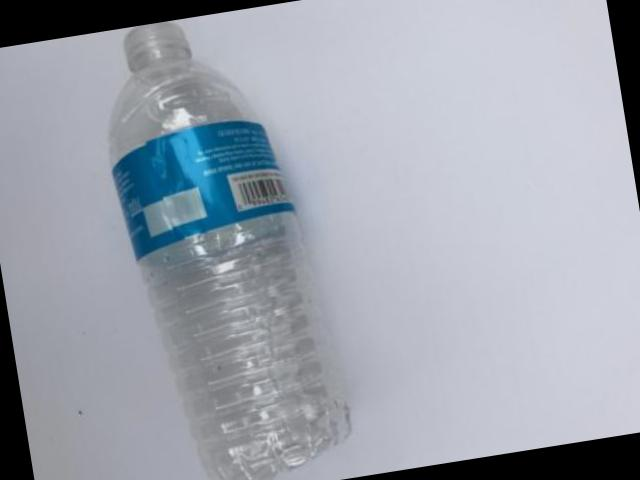plastic: (112, 25, 353, 480)
